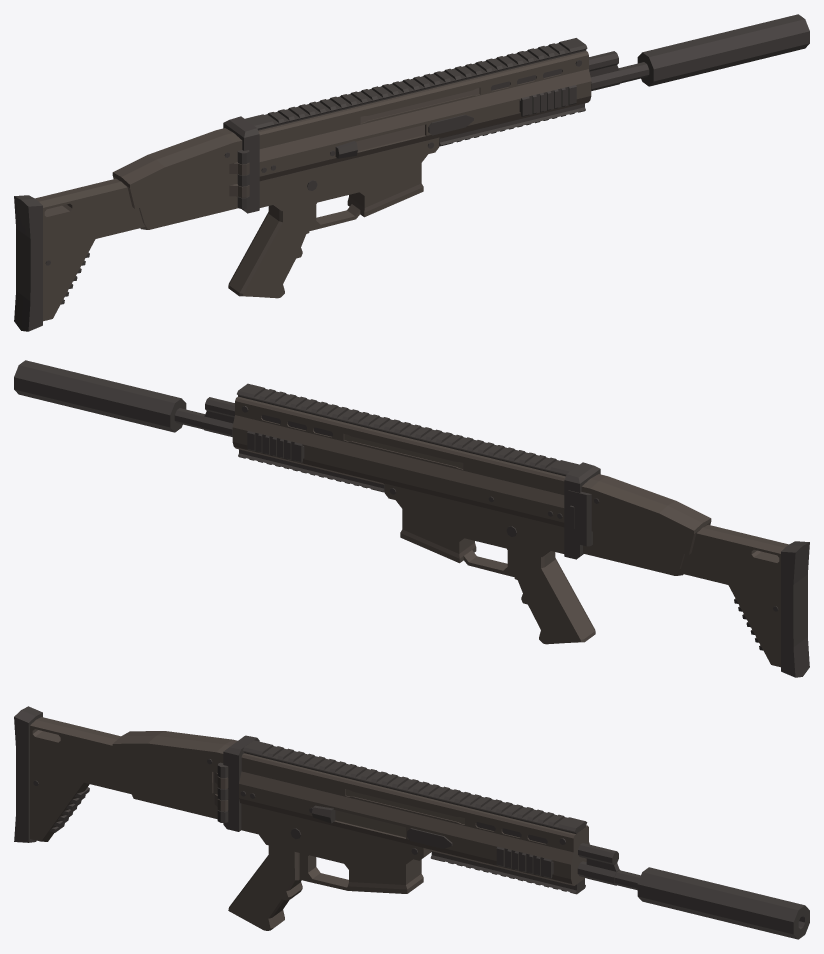
File: AssaultRifle6_03.fbx
The picture shows the model from 3 angles, top to bottom: view 1: azimuth 30°, elevation 25°; view 2: azimuth 150°, elevation 25°; view 3: azimuth 330°, elevation 25°; orthographic projection.
Parts seen in each view (by area): view 1: AssaultRifle6_03; view 2: AssaultRifle6_03; view 3: AssaultRifle6_03.
Part boxes in pixels (<box>): AssaultRifle6_03: <box>14,14,809,331</box>; AssaultRifle6_03: <box>14,360,809,677</box>; AssaultRifle6_03: <box>14,706,809,939</box>.
Size of the model in its own units: 1.07 by 0.2319 by 0.0635.
